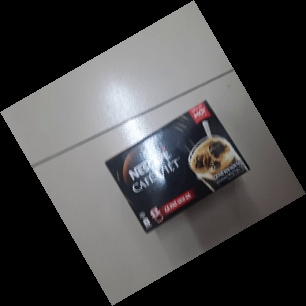CF Viet: (102, 98, 251, 233)
